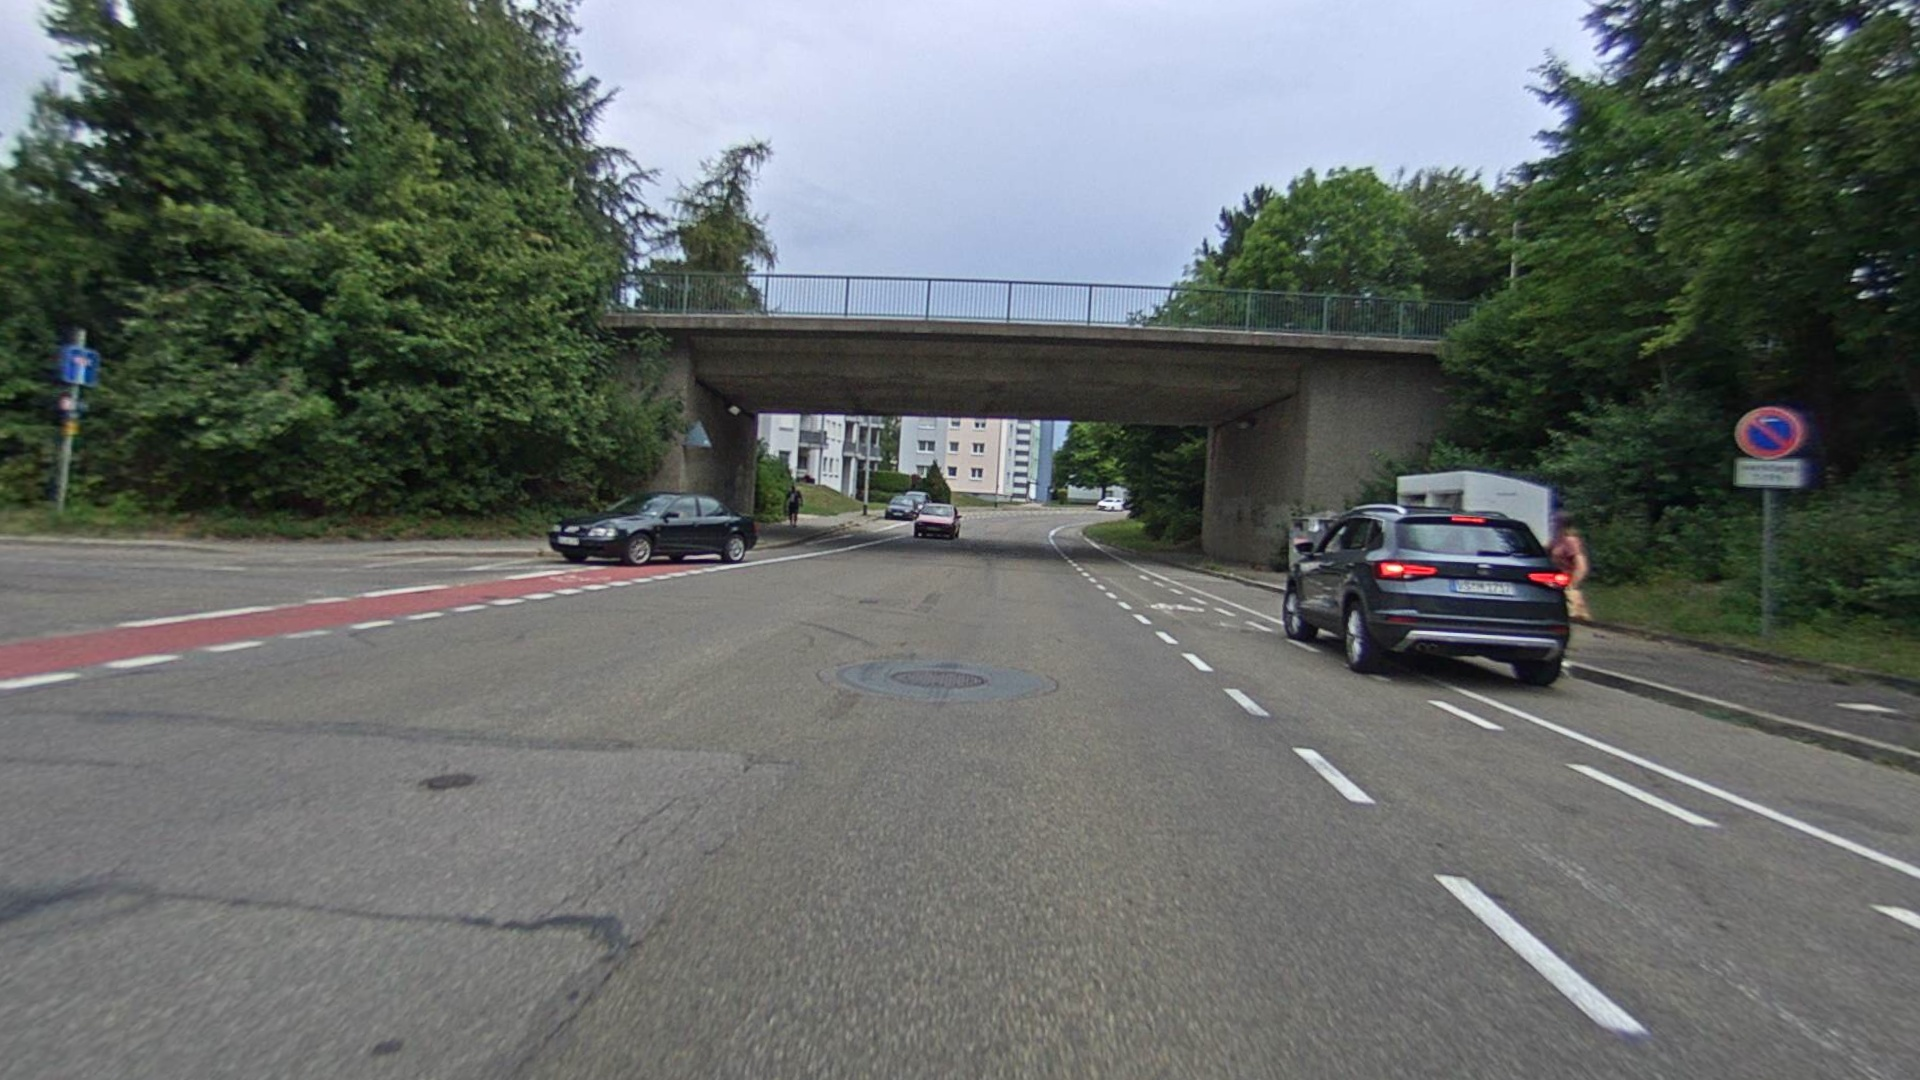car: (1280, 502, 1575, 688), (545, 489, 760, 568)
